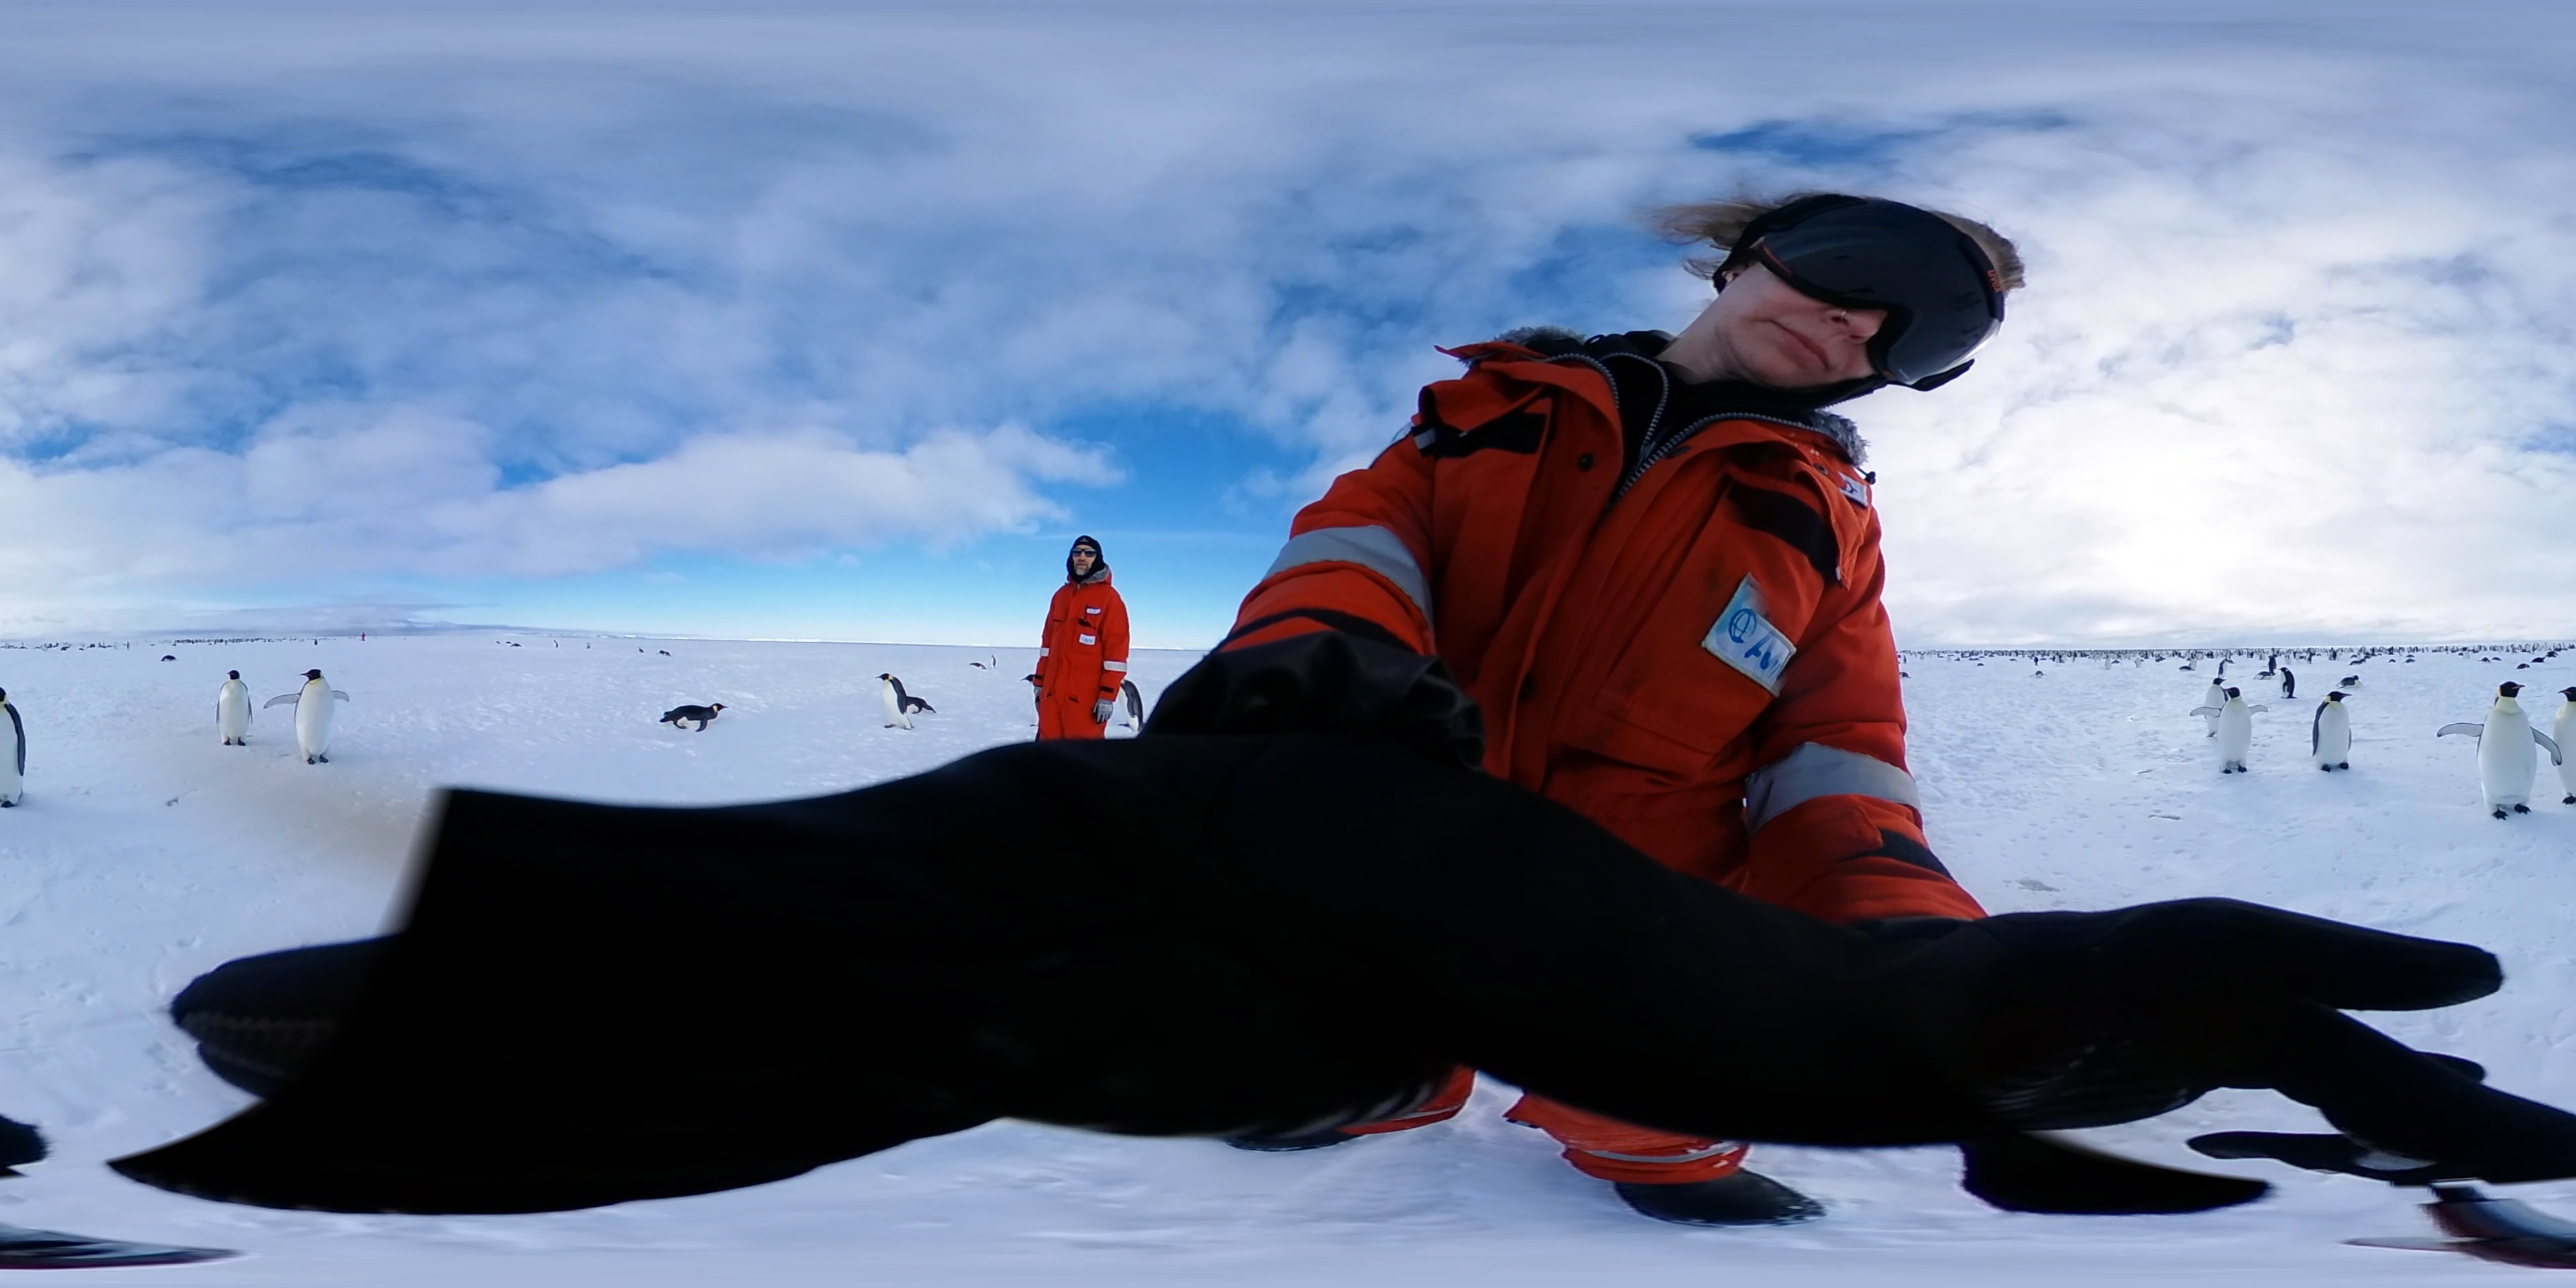adult_standing_penguin: (2431, 680, 2563, 825), (263, 664, 352, 766), (2188, 685, 2272, 782), (2310, 690, 2354, 775), (214, 669, 256, 751), (0, 685, 26, 812), (2555, 678, 2576, 810), (1111, 675, 1148, 739), (874, 674, 913, 731), (2203, 677, 2229, 738), (2274, 665, 2298, 701)
adult_toboggan_penguin: (654, 698, 729, 738), (892, 695, 938, 718), (2334, 672, 2364, 692), (2254, 670, 2280, 682), (159, 655, 176, 662)
researcher: (1186, 177, 2044, 1249), (1027, 529, 1127, 761)
